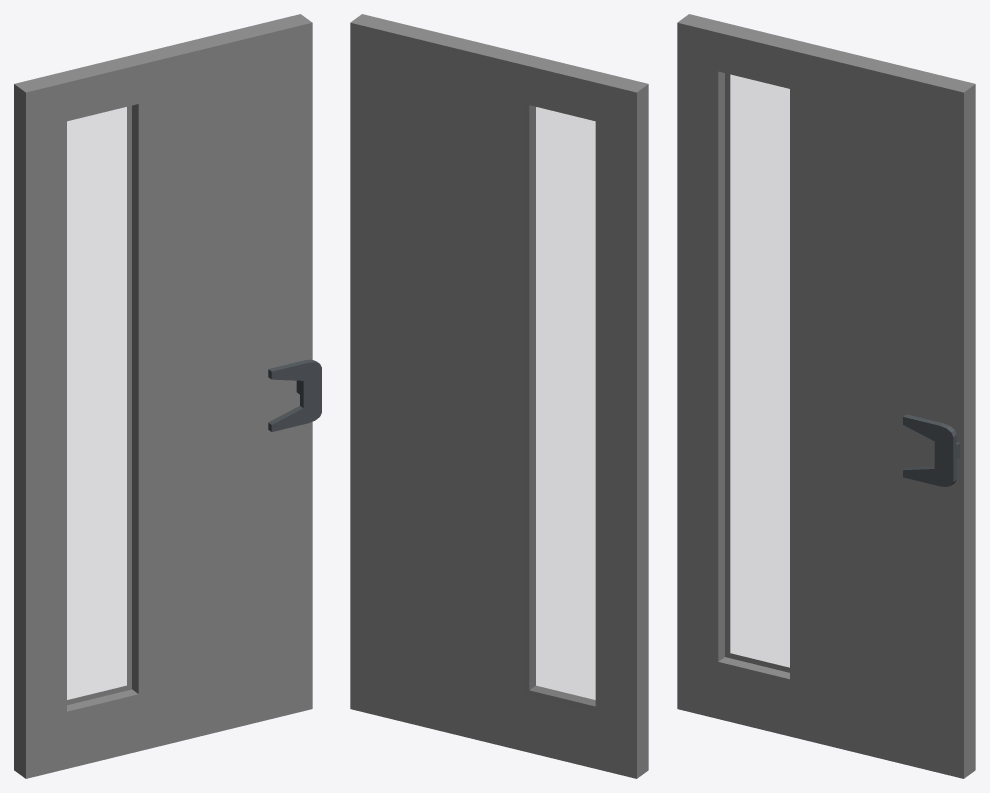
File: DoorsV11.glb
3 views of the same model, side by side, from view 1: azimuth 30°, elevation 25°; view 2: azimuth 150°, elevation 25°; view 3: azimuth 330°, elevation 25° (orthographic).
Visible parts, largest first — view 1: FrontDoorL.001, DoorHandle.021; view 2: FrontDoorL.001; view 3: FrontDoorL.001, DoorHandle.021.
Boxes of the visible parts, bbox=[...] form: FrontDoorL.001: bbox=[14, 14, 312, 778]; DoorHandle.021: bbox=[268, 359, 321, 431]; FrontDoorL.001: bbox=[350, 14, 648, 778]; FrontDoorL.001: bbox=[677, 14, 975, 778]; DoorHandle.021: bbox=[903, 414, 960, 486].
Bounding box in the file's own units: 0.926 × 2.12 × 0.1224.
3 materials, 1 textured.
